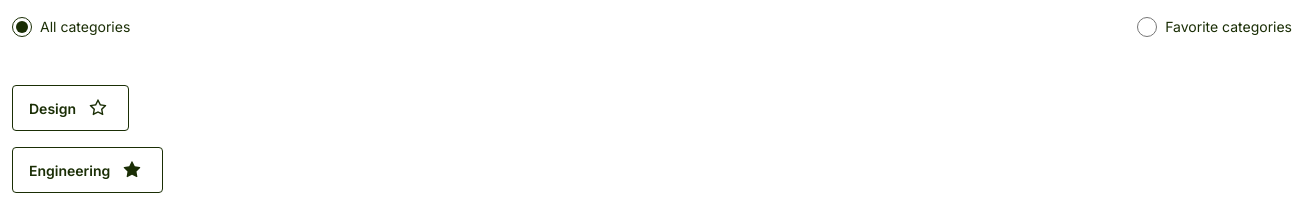
it: CategoryList › filters only favorite categories when toggled
The width and height of the screenshot is (1304, 210).
Click the radio button labelled "Favorite categories" at [1147, 26], box top-left (1137, 16), bottom-right (1157, 36)
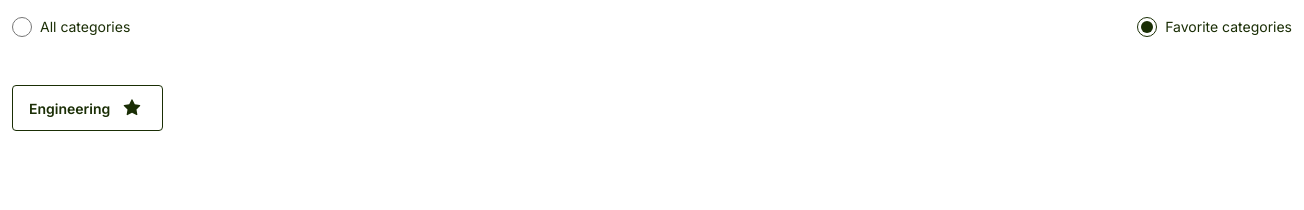
Expected: the text "Engineering" is shown, top-left (29, 98), bottom-right (110, 118)
Expected: the button "Design" is gone
